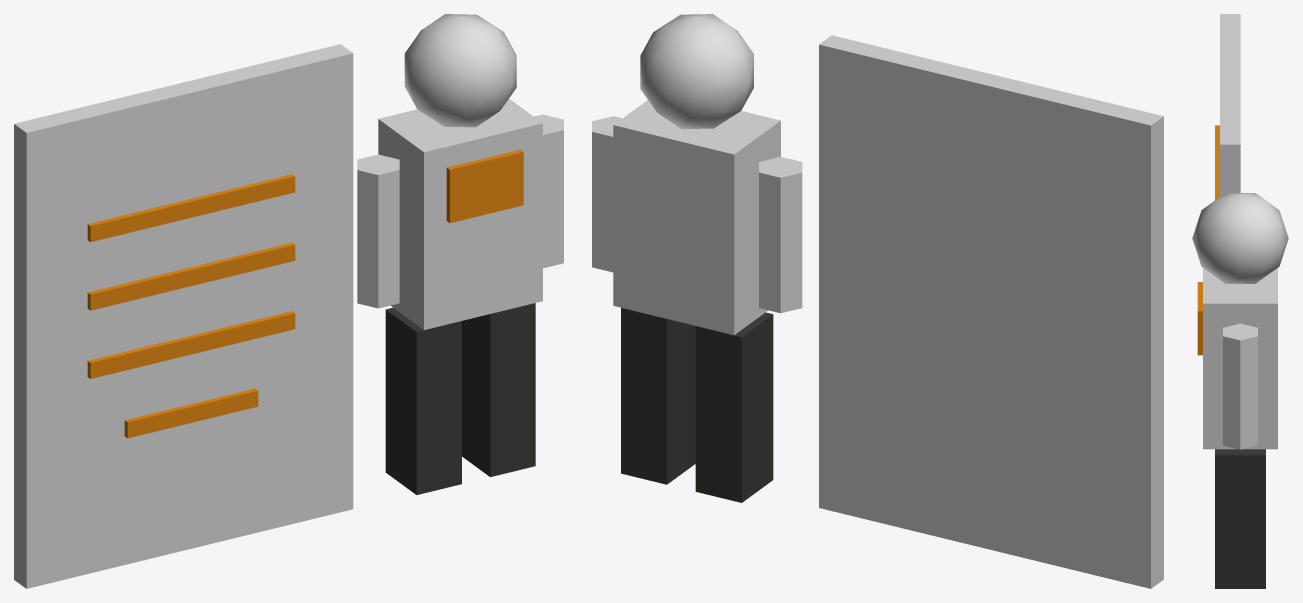
File: R6_incident_response_retainer.glb
The picture shows the model from 3 angles, left to right: view 1: azimuth 30°, elevation 25°; view 2: azimuth 150°, elevation 25°; view 3: azimuth 270°, elevation 25°; orthographic projection. The views are drawn at different scales.
Visible parts, largest first — view 1: instance_white, instance_ink, instance_amber; view 2: instance_white, instance_ink; view 3: instance_white, instance_ink, instance_amber.
Part boxes in pixels (left/top/right/bottom): instance_white: left=14, top=14, right=563, bottom=588; instance_ink: left=385, top=303, right=535, bottom=494; instance_amber: left=87, top=149, right=523, bottom=438; instance_white: left=592, top=14, right=1163, bottom=588; instance_ink: left=621, top=307, right=773, bottom=502; instance_white: left=1192, top=14, right=1288, bottom=449; instance_ink: left=1215, top=449, right=1265, bottom=588; instance_amber: left=1197, top=125, right=1219, bottom=355.
Bounding box in the file's own units: 1.26 × 1 × 0.234.
